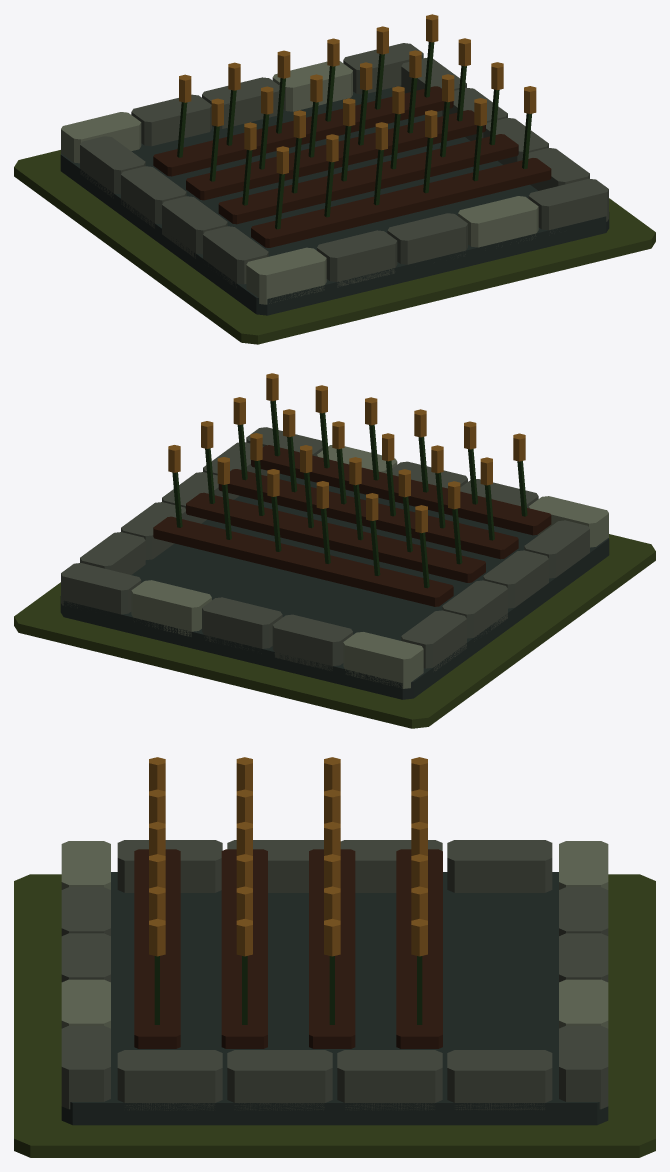
File: farm_t1.glb
3 views of the same model, one above another, from view 1: azimuth 30°, elevation 25°; view 2: azimuth 150°, elevation 25°; view 3: azimuth 270°, elevation 25° (orthographic). The views are drawn at different scales.
Visible parts, largest first — view 1: MMR | farm | T01 Architecture.001, MMR | farm | Tier 01 Ground.001; view 2: MMR | farm | T01 Architecture.001, MMR | farm | Tier 01 Ground.001; view 3: MMR | farm | T01 Architecture.001, MMR | farm | Tier 01 Ground.001.
Boxes of the visible parts, box(x1,y1,x2,y2) form: MMR | farm | T01 Architecture.001: box(60, 14, 609, 315); MMR | farm | Tier 01 Ground.001: box(14, 150, 655, 344); MMR | farm | T01 Architecture.001: box(60, 373, 609, 699); MMR | farm | Tier 01 Ground.001: box(14, 534, 655, 728); MMR | farm | T01 Architecture.001: box(61, 757, 608, 1125); MMR | farm | Tier 01 Ground.001: box(14, 874, 655, 1157).
Bounding box in the file's own units: 2.35 × 0.742 × 2.35.
1 material, 1 textured.
